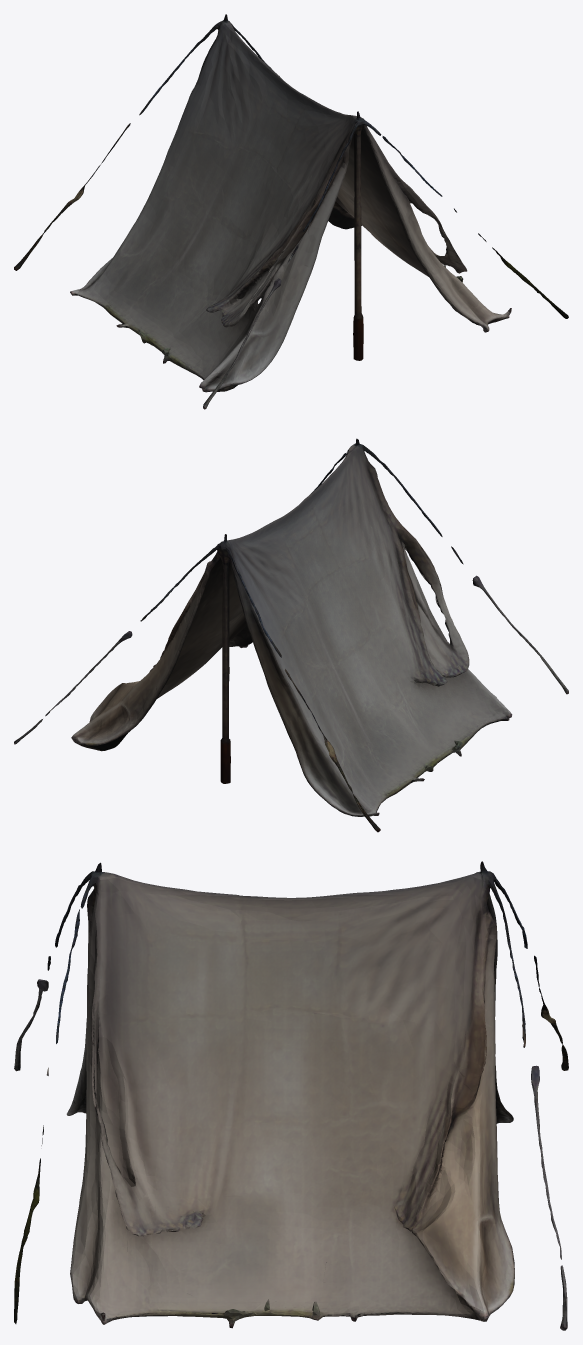
Rendered from tent_1960_02.gltf.
3 renders of one model, top to bottom at view 1: azimuth 30°, elevation 25°; view 2: azimuth 150°, elevation 25°; view 3: azimuth 270°, elevation 25°, orthographic. The views are drawn at different scales.
Visible parts, largest first — view 1: world; view 2: world; view 3: world.
Boxes of the visible parts, bbox=[...] form: world: bbox=[14, 14, 568, 409]; world: bbox=[14, 438, 568, 832]; world: bbox=[14, 861, 568, 1330].
Size of the model in its own units: 1 by 0.6519 by 0.9056.
1 material, 1 textured.
